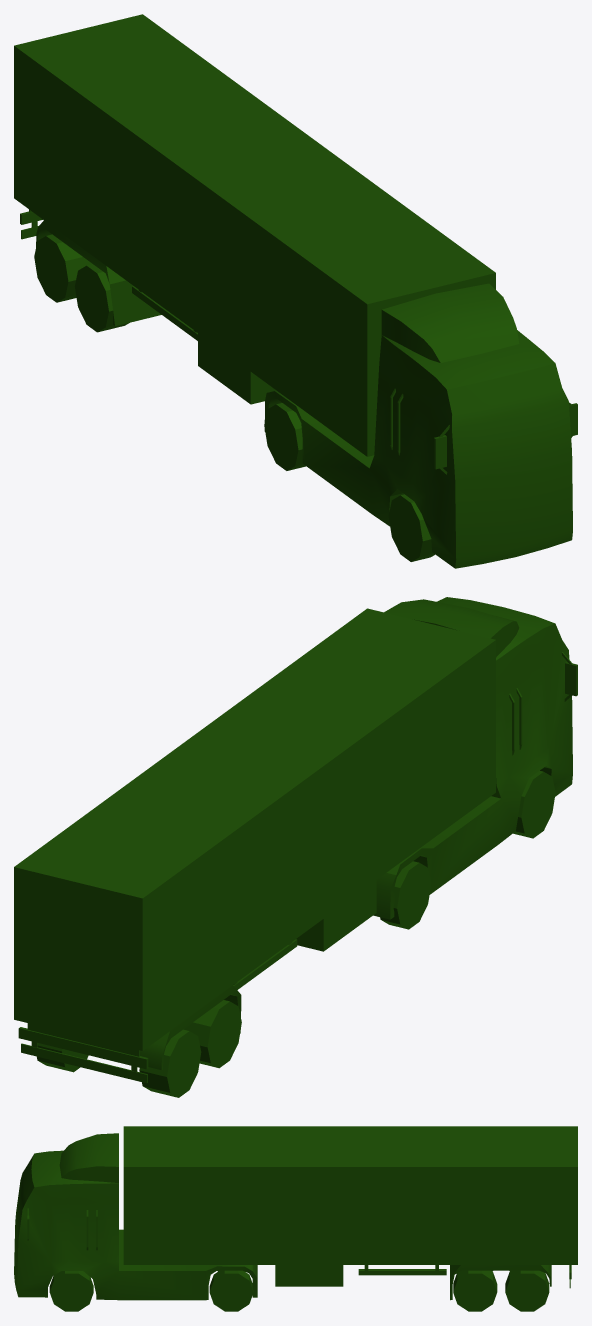
The model's file is Vehicle06B.fbx.
3 views of the same model, one above another, from view 1: azimuth 30°, elevation 25°; view 2: azimuth 150°, elevation 25°; view 3: azimuth 270°, elevation 25° (orthographic). The views are drawn at different scales.
Visible parts, largest first — view 1: Vehicle06B; view 2: Vehicle06B; view 3: Vehicle06B.
Part boxes in pixels (<box>): Vehicle06B: <box>14,14,577,568</box>; Vehicle06B: <box>14,597,577,1097</box>; Vehicle06B: <box>14,1126,577,1311</box>.
Size of the model in its own units: 1.76 by 2.65 by 9.4.
